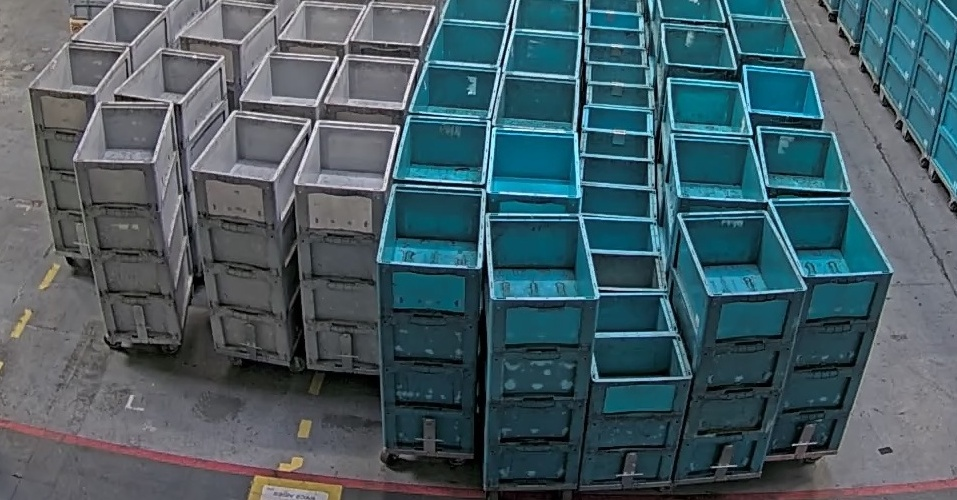4G: (190, 109, 312, 364), (72, 100, 195, 340), (293, 119, 400, 371), (28, 41, 132, 254)
B4: (666, 207, 809, 482), (765, 196, 897, 459), (483, 211, 601, 491), (374, 182, 489, 453)
B8: (574, 291, 694, 488)
